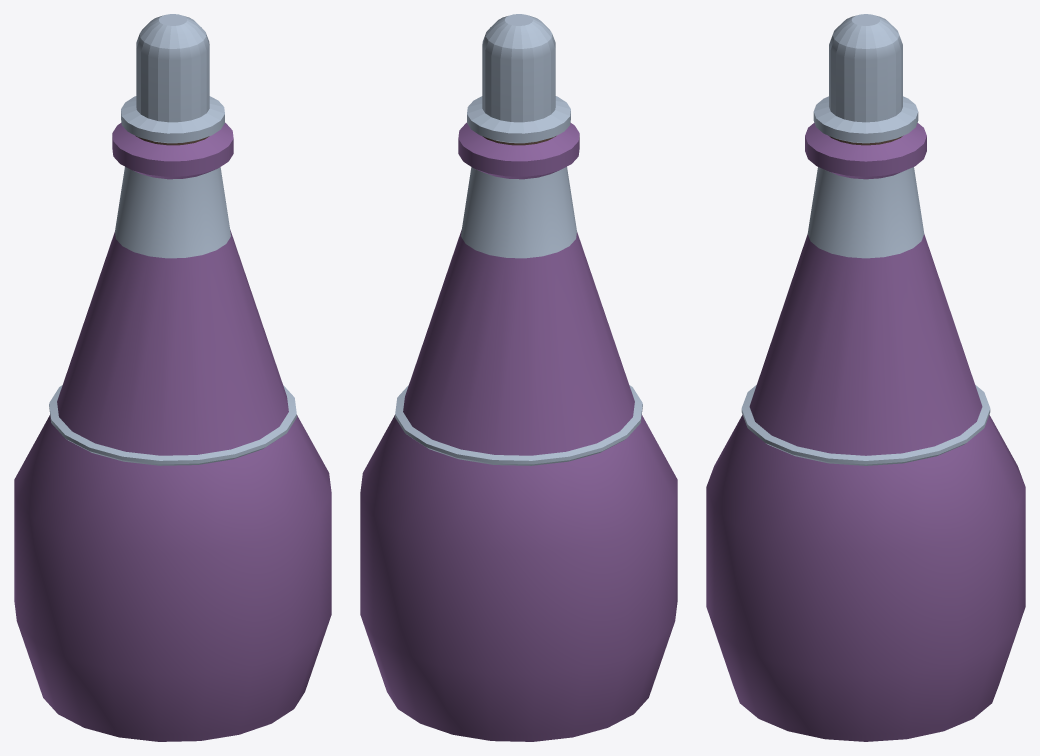
Rendered from Potion.fbx.
3 renders of one model, left to right at view 1: azimuth 30°, elevation 25°; view 2: azimuth 150°, elevation 25°; view 3: azimuth 270°, elevation 25°, orthographic.
Parts seen in each view (by area): view 1: pCylinder1; view 2: pCylinder1; view 3: pCylinder1.
Boxes of the visible parts, x1,y1,x2,y2 form: pCylinder1: (14, 14, 331, 741); pCylinder1: (360, 14, 677, 741); pCylinder1: (706, 14, 1025, 741).
Size of the model in its own units: 2.4 by 5.54 by 2.4.
